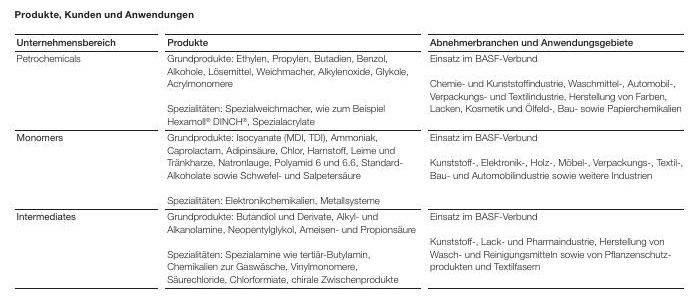table: (0, 0, 693, 299)
